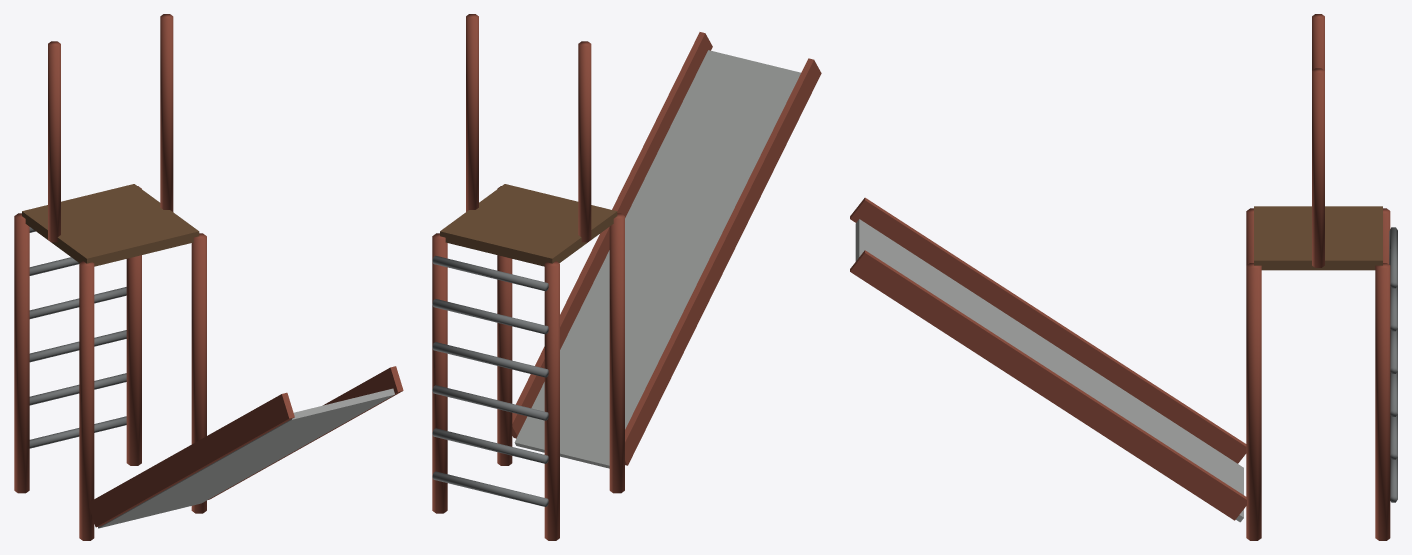
Rendered from slide.glb.
3 renders of one model, left to right at view 1: azimuth 30°, elevation 25°; view 2: azimuth 150°, elevation 25°; view 3: azimuth 270°, elevation 25°, orthographic.
Visible parts, largest first — view 1: Slide; view 2: Slide; view 3: Slide.
Part boxes in pixels (box(x1,y1,x2,y2)): Slide: box(14, 14, 403, 540); Slide: box(432, 14, 821, 540); Slide: box(850, 14, 1397, 540).
Bounding box in the file's own units: 0.6606 × 2.4 × 2.55.
